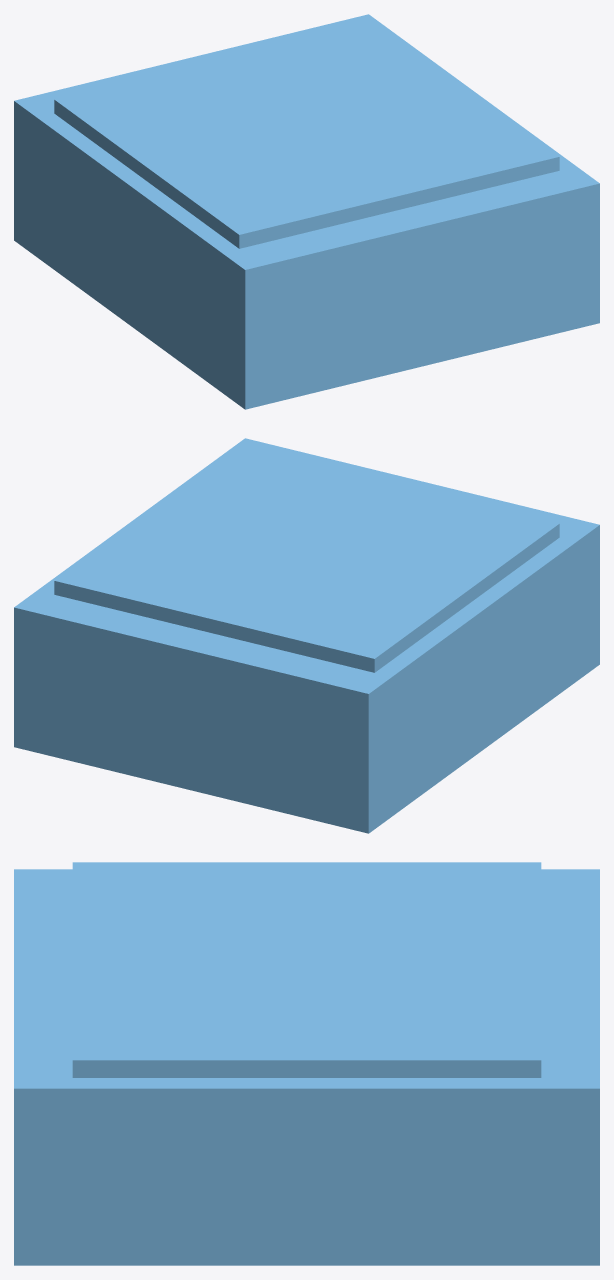
File: Prop_Pet_AMF_Bowl_V17.glb
The picture shows the model from 3 angles, top to bottom: view 1: azimuth 30°, elevation 25°; view 2: azimuth 150°, elevation 25°; view 3: azimuth 270°, elevation 25°; orthographic projection. The views are drawn at different scales.
Visible parts, largest first — view 1: Prop_Pet_AMF_Bowl_V17; view 2: Prop_Pet_AMF_Bowl_V17; view 3: Prop_Pet_AMF_Bowl_V17.
Part boxes in pixels (left/top/right/bottom): Prop_Pet_AMF_Bowl_V17: left=14, top=14, right=599, bottom=409; Prop_Pet_AMF_Bowl_V17: left=14, top=438, right=599, bottom=833; Prop_Pet_AMF_Bowl_V17: left=14, top=862, right=599, bottom=1265.
Size of the model in its own units: 0.2658 by 0.11 by 0.3.
